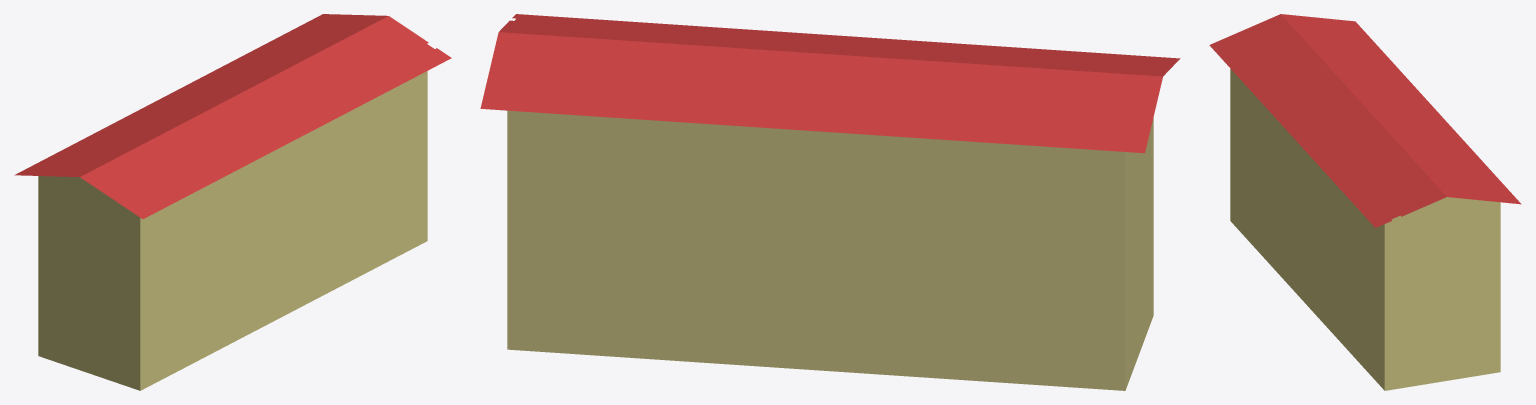
3 views of the same model, side by side, from view 1: azimuth 30°, elevation 25°; view 2: azimuth 150°, elevation 25°; view 3: azimuth 270°, elevation 25° (orthographic). The views are drawn at different scales.
Size of the model in its own units: 15.08 by 9.63 by 6.5.
